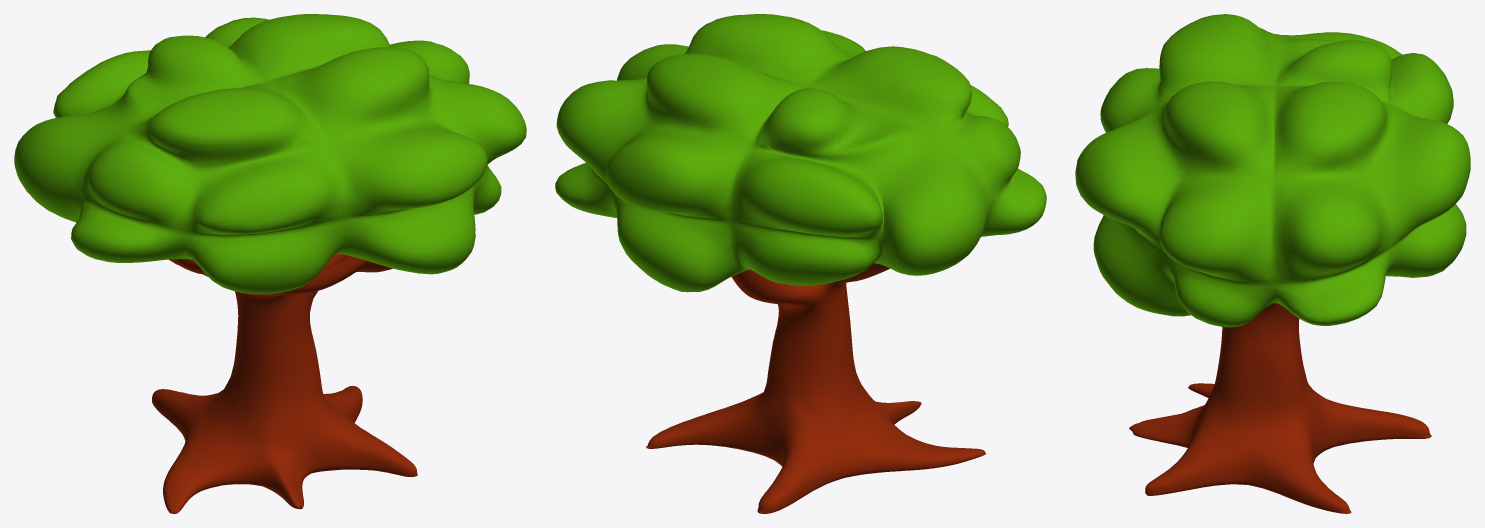
Rendered from bigTree.obj.
3 views of the same model, side by side, from view 1: azimuth 30°, elevation 25°; view 2: azimuth 150°, elevation 25°; view 3: azimuth 270°, elevation 25° (orthographic).
Parts seen in each view (by area): view 1: Leaf_mesh.001, Bark_mesh.002; view 2: Leaf_mesh.001, Bark_mesh.002; view 3: Leaf_mesh.001, Bark_mesh.002.
Part boxes in pixels (box(x1,y1,x2,y2)): Leaf_mesh.001: box(14, 14, 526, 294); Bark_mesh.002: box(152, 254, 417, 513); Leaf_mesh.001: box(555, 14, 1046, 292); Bark_mesh.002: box(646, 263, 985, 513); Leaf_mesh.001: box(1075, 14, 1470, 327); Bark_mesh.002: box(1129, 303, 1431, 513).
Size of the model in its own units: 4.86 by 4.22 by 3.83.
